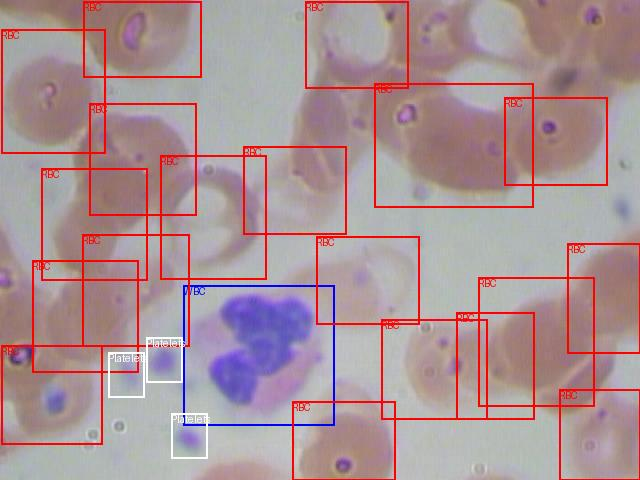Platelets: (146, 337, 182, 382), (108, 352, 144, 397), (171, 413, 207, 458)
RBC: (374, 83, 533, 207), (478, 277, 594, 406), (160, 155, 266, 279), (1, 29, 105, 153), (89, 103, 196, 215), (82, 234, 189, 346), (41, 168, 147, 280), (32, 260, 138, 372), (381, 319, 487, 419), (1, 345, 102, 444), (504, 97, 607, 185), (243, 146, 346, 234), (316, 236, 419, 324), (83, 1, 201, 77), (305, 1, 408, 88), (456, 312, 534, 419), (292, 401, 395, 480), (567, 243, 640, 353), (559, 389, 640, 480)
WBC: (183, 285, 334, 425)
